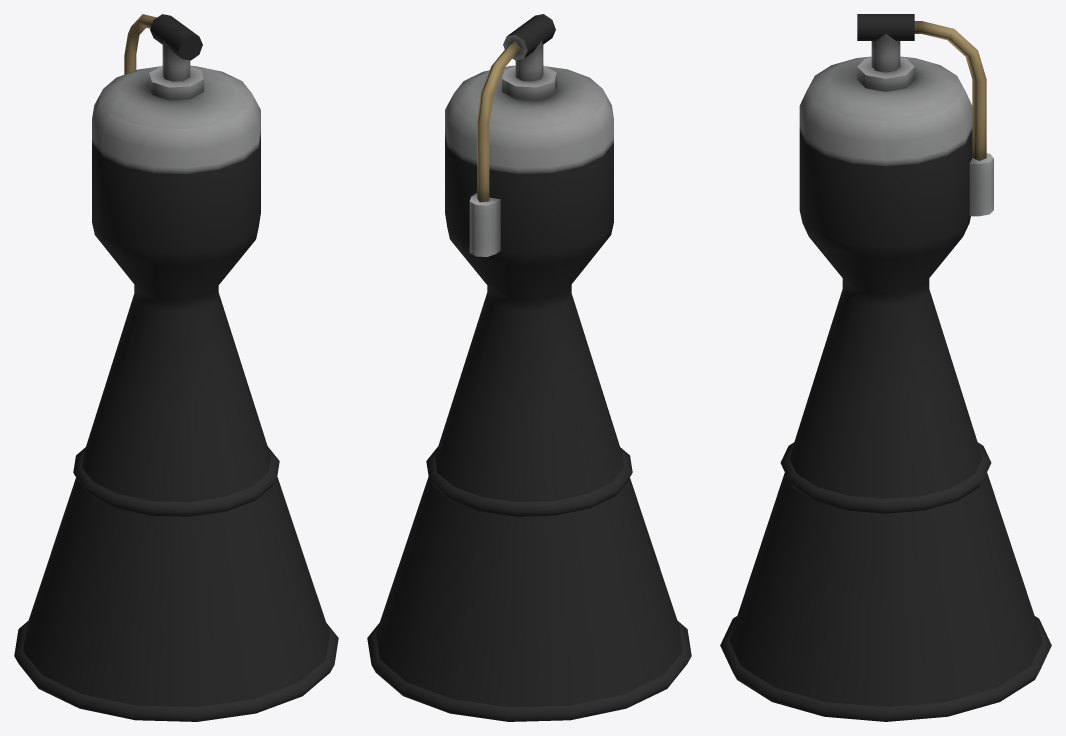
Rendered from Arrow_Engine_0p5_1_Nozzle.obj.
The picture shows the model from 3 angles, left to right: view 1: azimuth 30°, elevation 25°; view 2: azimuth 150°, elevation 25°; view 3: azimuth 270°, elevation 25°; orthographic projection.
Parts seen in each view (by area): view 1: Arrow_Engine_0p5_1_Nozzle; view 2: Arrow_Engine_0p5_1_Nozzle; view 3: Arrow_Engine_0p5_1_Nozzle.
Part boxes in pixels (x1,y1,x2,y2): Arrow_Engine_0p5_1_Nozzle: (14, 14, 338, 721); Arrow_Engine_0p5_1_Nozzle: (367, 14, 691, 721); Arrow_Engine_0p5_1_Nozzle: (720, 14, 1051, 721).
Size of the model in its own units: 0.288 by 0.6125 by 0.288.
